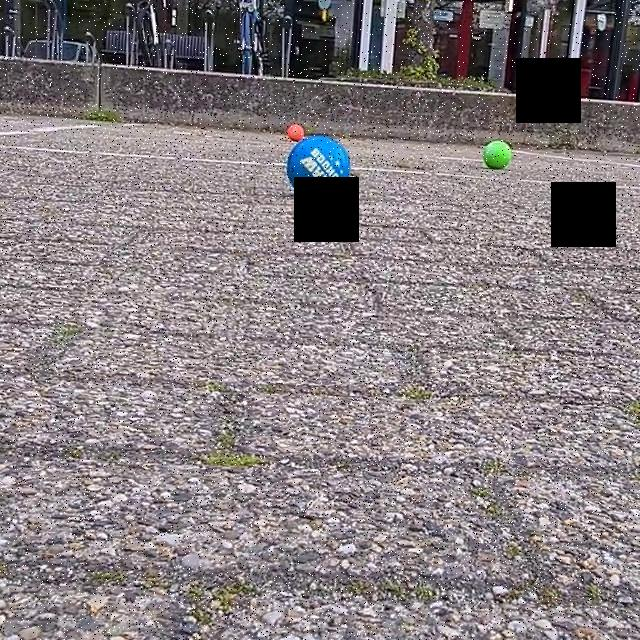ball: (482, 138, 512, 174), (282, 122, 310, 143)
